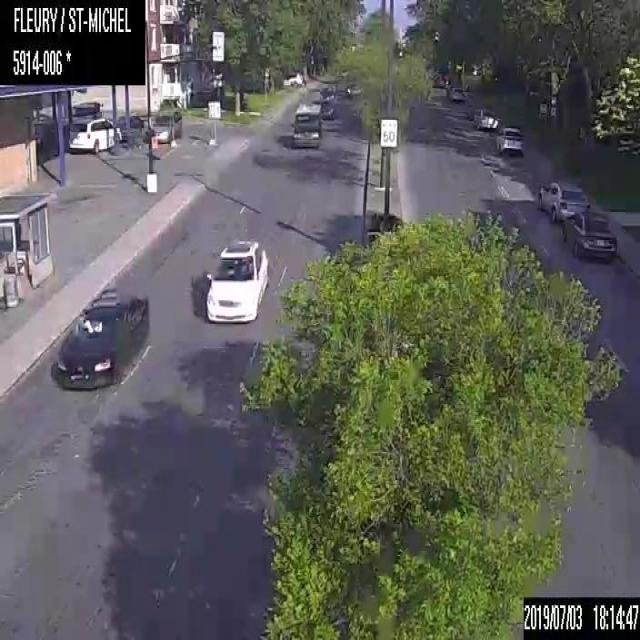vehicle: (56, 291, 150, 389), (205, 236, 270, 323), (560, 207, 616, 261), (536, 176, 590, 224), (66, 115, 122, 154), (290, 102, 321, 147), (150, 109, 182, 142), (496, 124, 524, 154), (71, 101, 101, 128), (115, 116, 145, 140), (474, 110, 500, 132), (316, 96, 336, 122), (446, 83, 466, 100), (319, 84, 336, 101), (281, 72, 301, 85), (344, 77, 357, 95)
